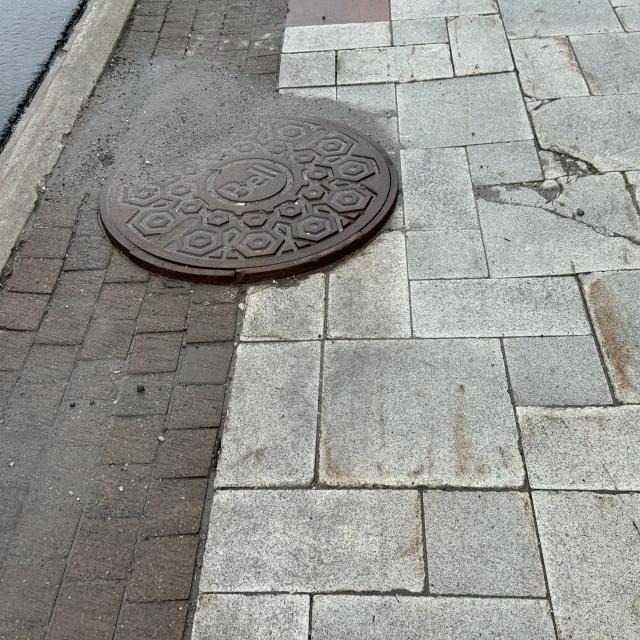Manhole: (100, 102, 402, 286)
